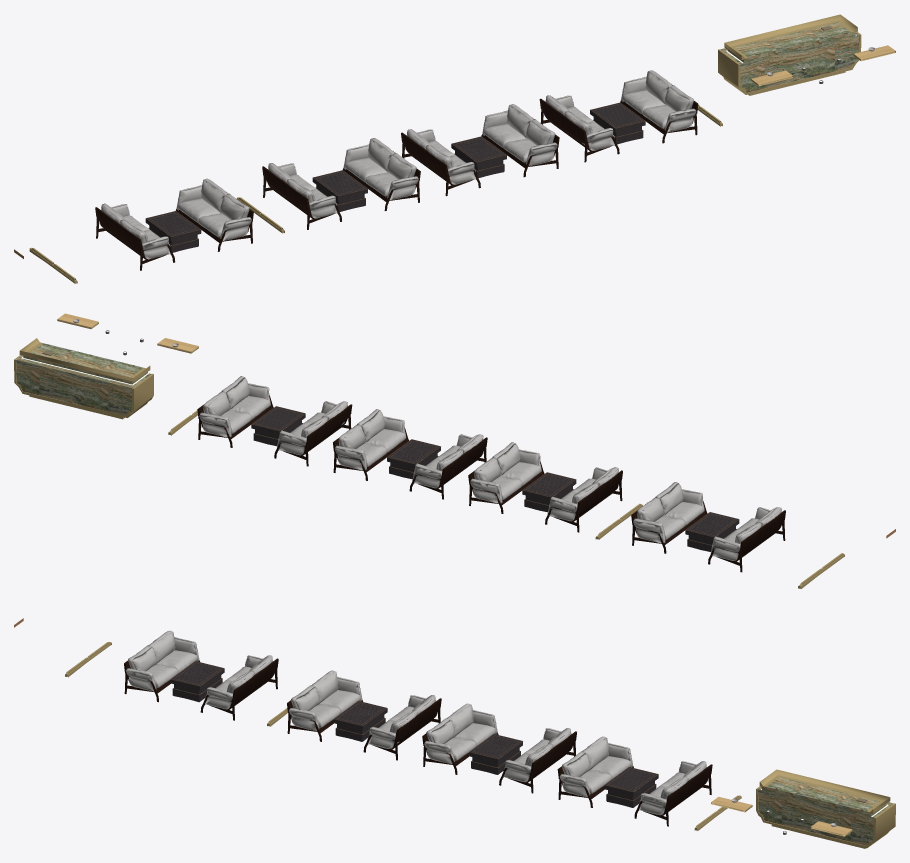
The model's file is lobby-waiting.glb.
The picture shows the model from 3 angles, top to bottom: view 1: azimuth 30°, elevation 25°; view 2: azimuth 150°, elevation 25°; view 3: azimuth 330°, elevation 25°; orthographic projection. The views are drawn at different scales.
Visible parts, largest first — view 1: Waiting_49, Waiting_51, Waiting_57, Waiting_188, Waiting_45, Waiting_56, Waiting_46; view 2: Waiting_49, Waiting_51, Waiting_188, Waiting_57, Waiting_45, Waiting_56, Waiting_46; view 3: Waiting_49, Waiting_57, Waiting_51, Waiting_188, Waiting_45, Waiting_56, Waiting_46.
Part boxes in pixels (x1=…): Waiting_49: x1=101, y1=70, x2=696, y2=259; Waiting_51: x1=95, y1=84, x2=698, y2=270; Waiting_57: x1=145, y1=102, x2=645, y2=252; Waiting_188: x1=720, y1=22, x2=858, y2=92; Waiting_45: x1=29, y1=14, x2=895, y2=283; Waiting_56: x1=146, y1=102, x2=645, y2=245; Waiting_46: x1=751, y1=45, x2=895, y2=85; Waiting_49: x1=199, y1=376, x2=781, y2=560; Waiting_51: x1=197, y1=391, x2=785, y2=572; Waiting_188: x1=16, y1=343, x2=151, y2=415; Waiting_57: x1=251, y1=406, x2=739, y2=551; Waiting_45: x1=14, y1=319, x2=844, y2=588; Waiting_56: x1=251, y1=406, x2=739, y2=545; Waiting_46: x1=58, y1=313, x2=198, y2=352; Waiting_49: x1=126, y1=630, x2=706, y2=815; Waiting_57: x1=170, y1=661, x2=658, y2=807; Waiting_51: x1=124, y1=644, x2=712, y2=826; Waiting_188: x1=758, y1=777, x2=893, y2=845; Waiting_45: x1=65, y1=642, x2=895, y2=848; Waiting_56: x1=170, y1=661, x2=658, y2=800; Waiting_46: x1=711, y1=797, x2=851, y2=836.
Bounding box in the file's own units: 17.79 × 0.9095 × 2.01.
Materials: 15 (8 with a texture image).
